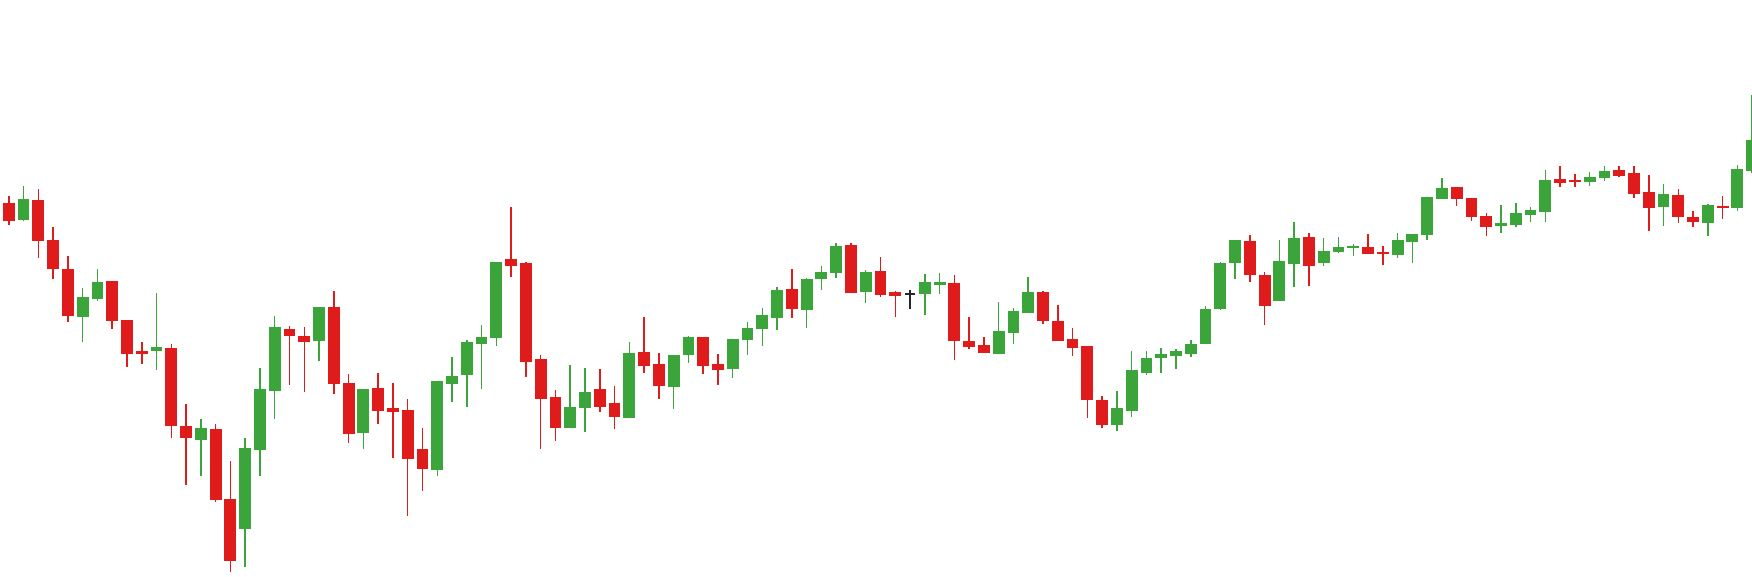buy: (604, 309, 1127, 434)
sell: (328, 209, 534, 354)
